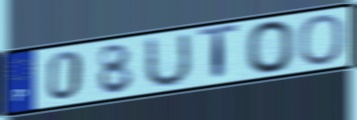0: (44, 49, 84, 103)
8: (96, 42, 136, 95)
O: (243, 18, 296, 75), (296, 12, 346, 68)
T: (197, 22, 241, 84)
U: (142, 30, 194, 91)
